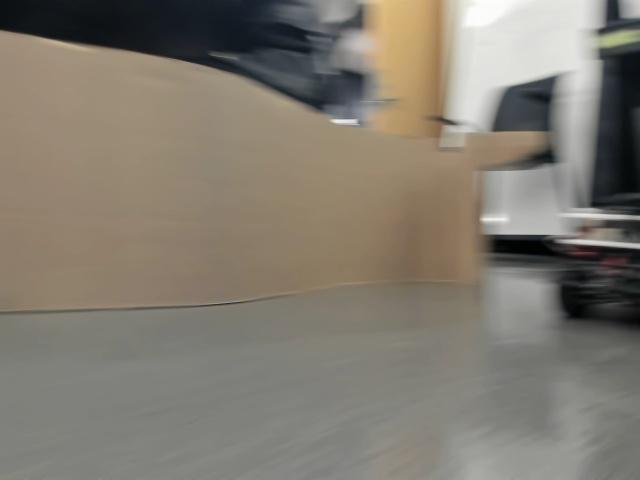Car: (556, 181, 639, 327)
